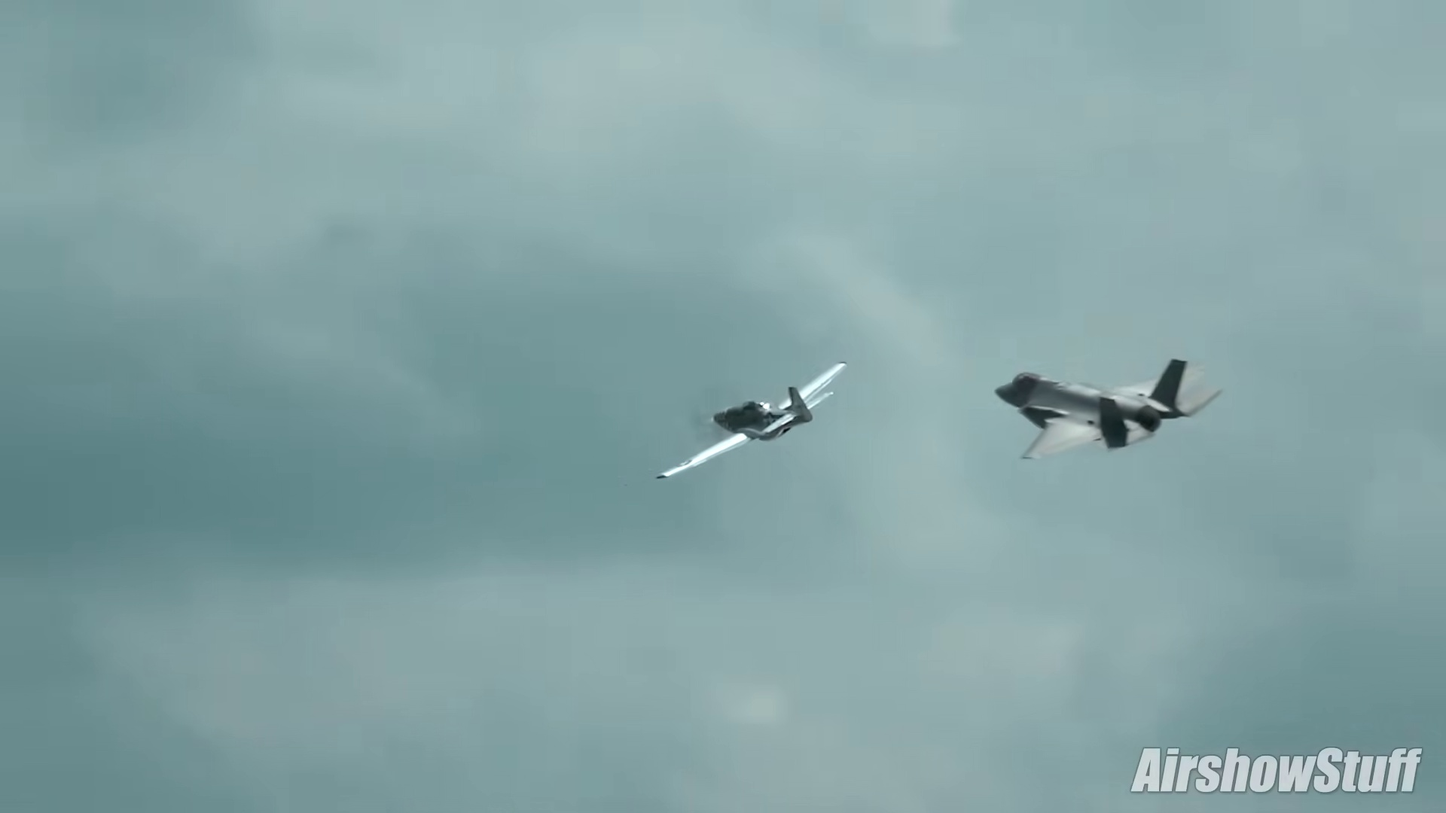F35: (990, 356, 1228, 465)
